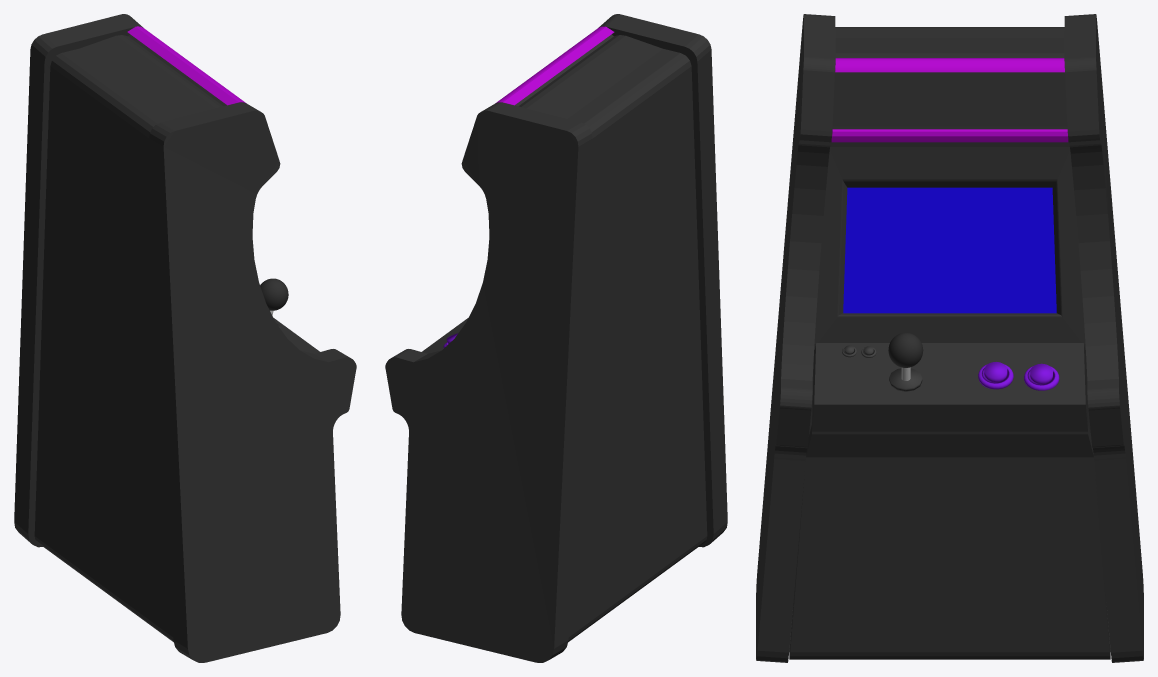
Rendered from arcade_machine_2.fbx.
The picture shows the model from 3 angles, left to right: view 1: azimuth 30°, elevation 25°; view 2: azimuth 150°, elevation 25°; view 3: azimuth 270°, elevation 25°; orthographic projection. The views are drawn at different scales.
Parts seen in each view (by area): view 1: panel.001, body back, panel.002, Shaft.001; view 2: panel.001, body back, panel.002; view 3: body back, screen, panel.001, game panel, panel.002, Shaft.001.
Boxes of the visible parts, box(x1,y1,x2,y2) form: panel.001: box(14, 14, 356, 662); body back: box(34, 34, 226, 642); panel.002: box(127, 26, 246, 105); Shaft.001: box(260, 278, 288, 310); panel.001: box(385, 14, 727, 662); body back: box(515, 34, 707, 642); panel.002: box(495, 26, 614, 105); body back: box(789, 27, 1110, 659); screen: box(814, 141, 1085, 349); panel.001: box(756, 14, 1143, 662); game panel: box(806, 343, 1093, 457); panel.002: box(831, 58, 1068, 142); Shaft.001: box(888, 332, 923, 367).
Size of the model in its own units: 154 by 418 by 255.
